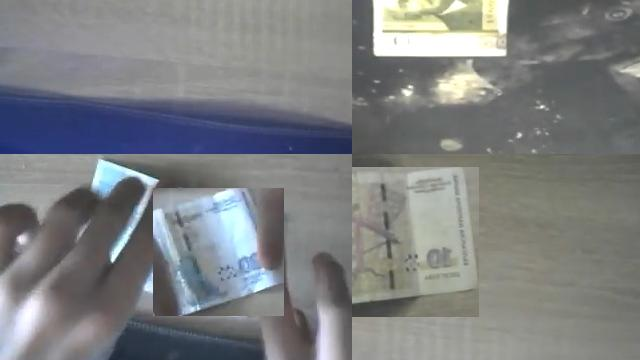10leva: (352, 167, 479, 309)
20leva: (153, 188, 284, 316)
